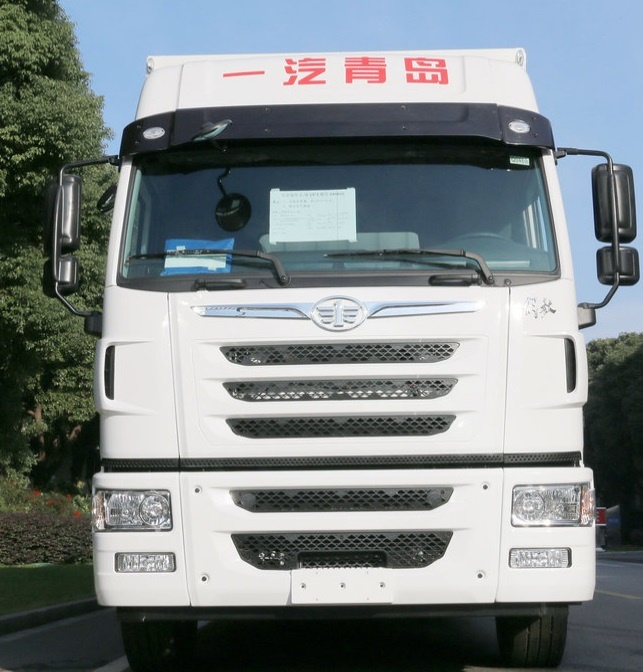heavy truck: (58, 48, 620, 669)
